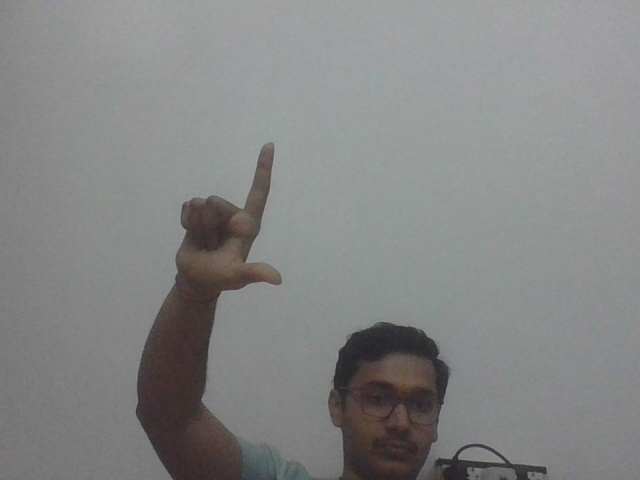L: (170, 140, 295, 300)
